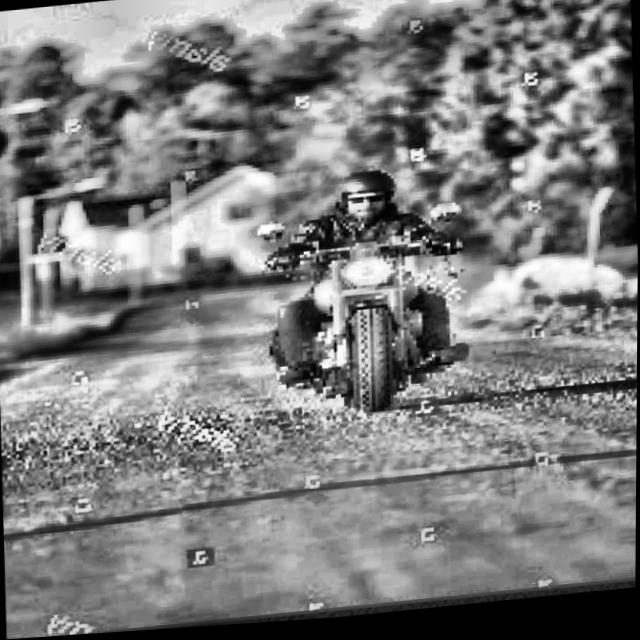motorcycle: (244, 191, 515, 430)
